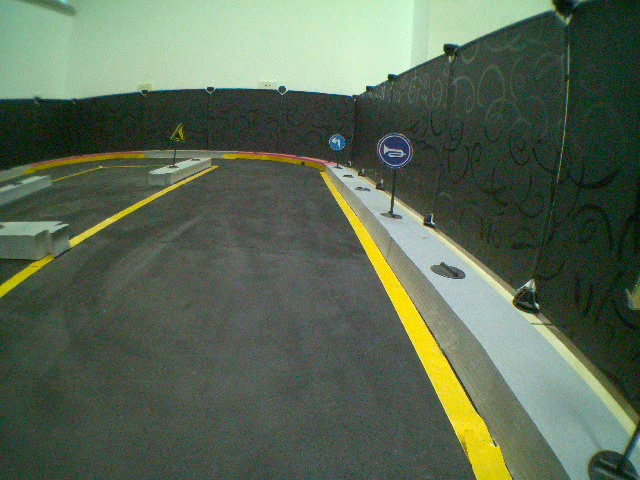fast: (170, 120, 186, 144)
horn: (373, 131, 415, 169)
turn: (327, 132, 346, 151)
